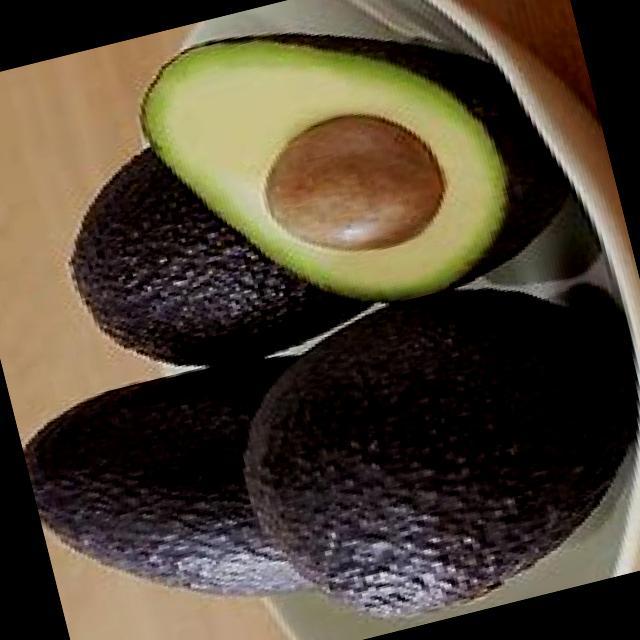avocado: (209, 253, 640, 640), (120, 0, 581, 356)
